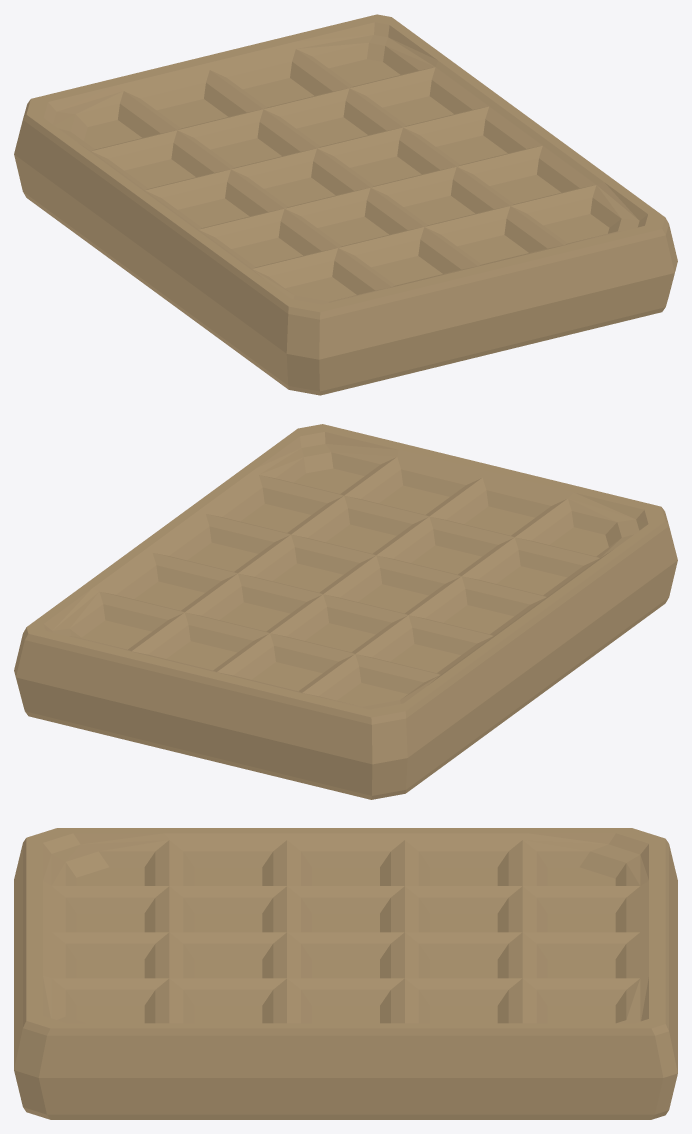
The model's file is Waffle.glb.
3 renders of one model, top to bottom at view 1: azimuth 30°, elevation 25°; view 2: azimuth 150°, elevation 25°; view 3: azimuth 270°, elevation 25°, orthographic. The views are drawn at different scales.
Parts seen in each view (by area): view 1: Waffle; view 2: Waffle; view 3: Waffle.
Boxes of the visible parts, x1,y1,x2,y2 form: Waffle: [14, 14, 677, 395]; Waffle: [14, 424, 677, 799]; Waffle: [14, 828, 677, 1119].
Size of the model in its own units: 1.13 by 0.2322 by 1.53.
